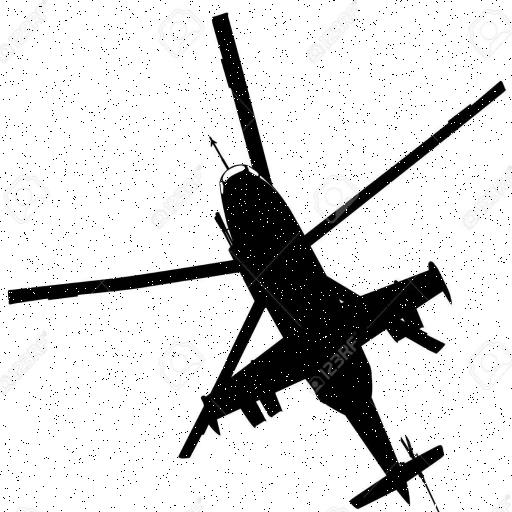helicopter: (8, 13, 505, 512)
